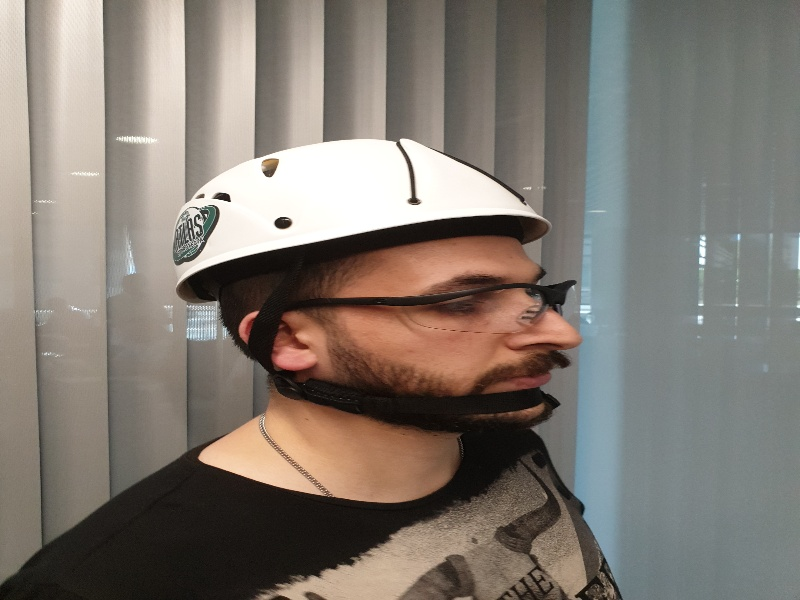Baret: (171, 138, 550, 276)
Gozluk: (301, 276, 578, 335)
